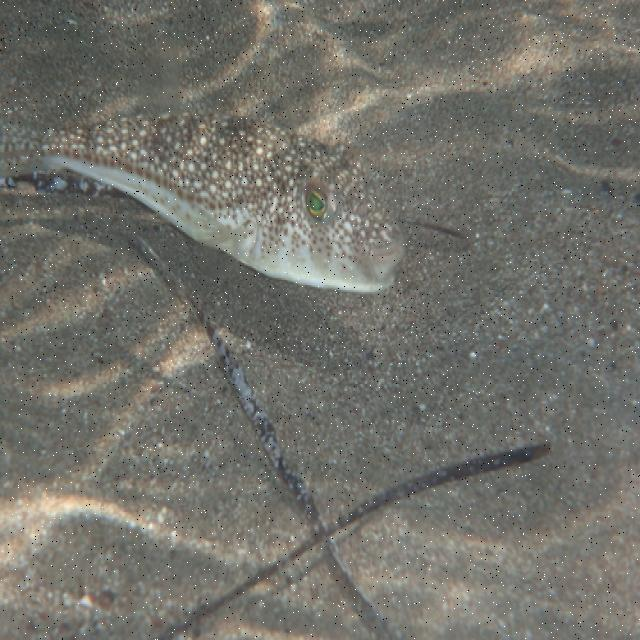Balik: (0, 117, 403, 291)
